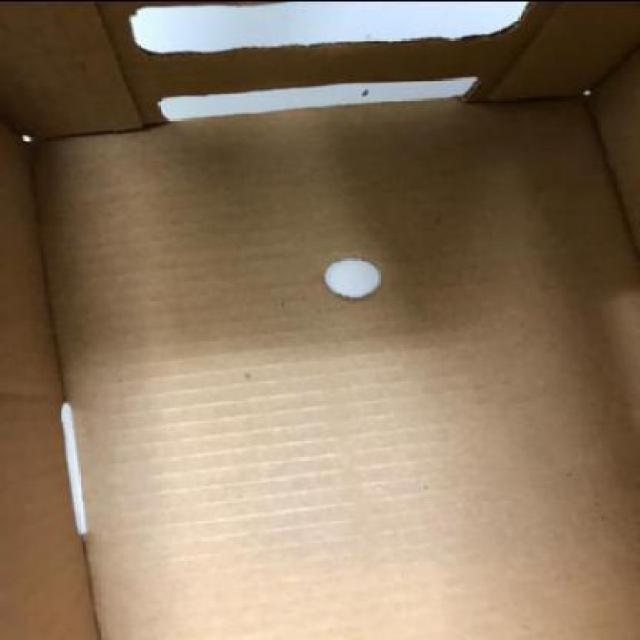box: (1, 0, 640, 638), (35, 97, 640, 638)
